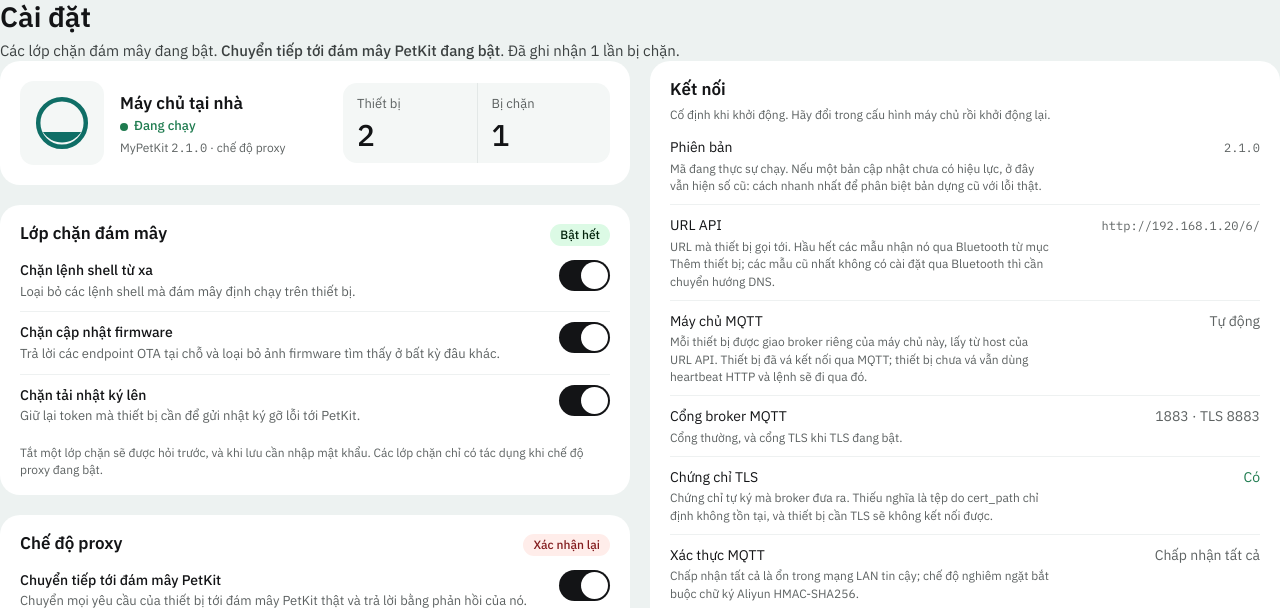
SetupPage › reads in Vietnamese, the guard dialog and the saved count included
The image size is (1280, 608).
Expected: the text "Các lớp chặn đám mây đang bật" is shown, x1=0 y1=41 x2=218 y2=60
Expected: the text "Chuyển tiếp tới đám mây PetKit đang bật" is shown, x1=221 y1=41 x2=500 y2=60
Click the switch named "Chặn cập nhật firmware" in the row of "Chặn cập nhật firmware" at (584, 338), box x1=559 y1=322 x2=610 y2=354
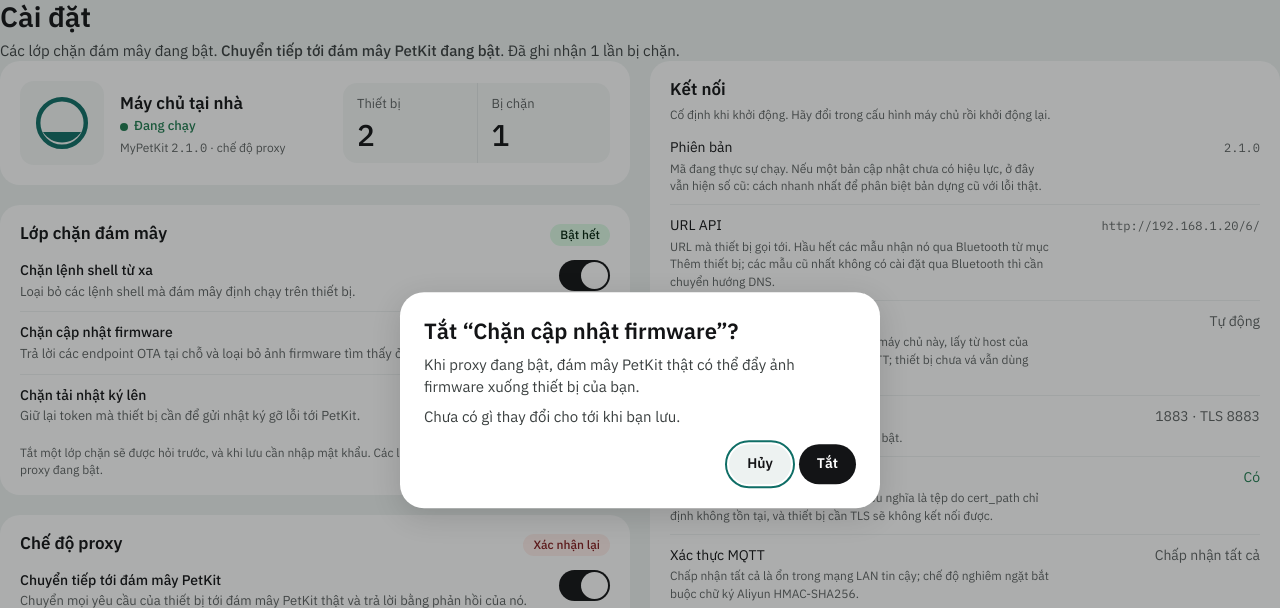
Click the button "Tắt" at (827, 464), box x1=799 y1=444 x2=856 y2=484
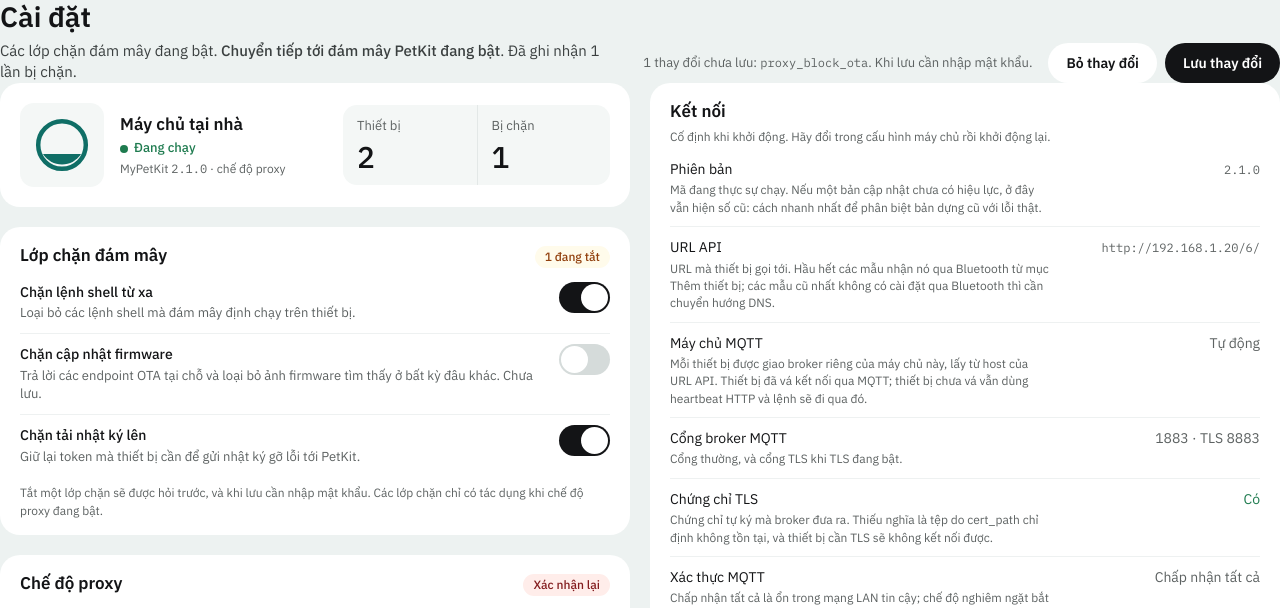
Click the button "Lưu thay đổi" at (1222, 63), box x1=1165 y1=43 x2=1279 y2=83
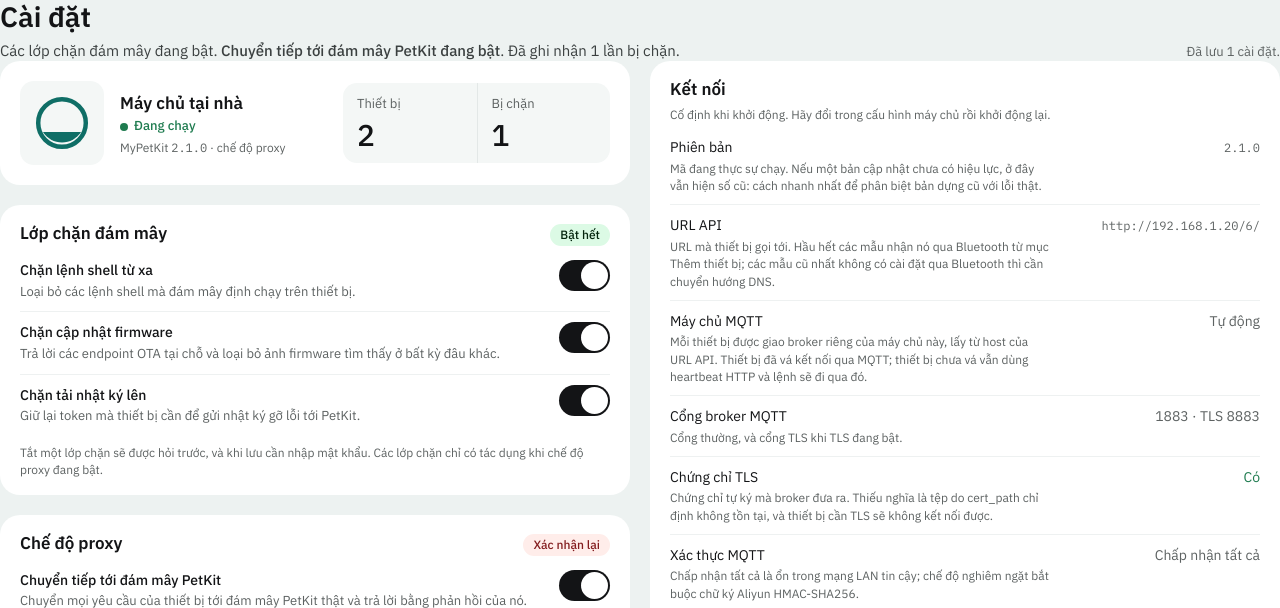
Expected: the text "Đã lưu 1 cài đặt." is shown, x1=1187 y1=42 x2=1279 y2=60
